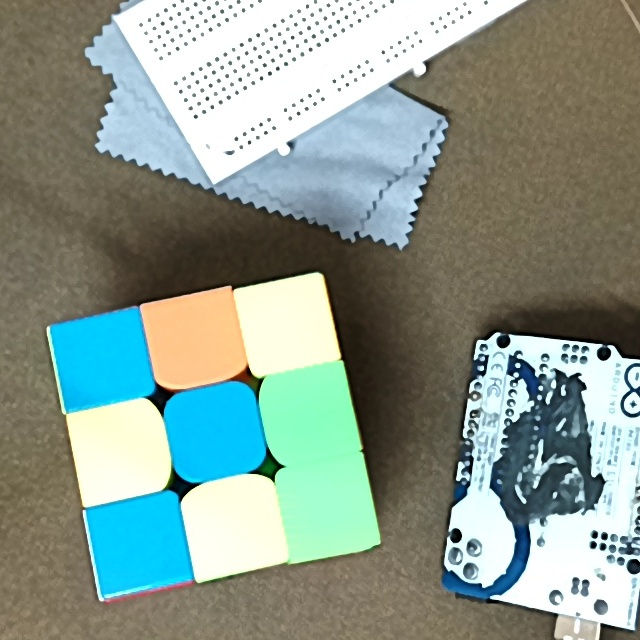tile: (84, 414, 157, 486), (179, 398, 252, 469), (105, 508, 179, 578), (61, 325, 136, 393), (157, 305, 230, 374), (291, 474, 361, 545), (275, 378, 343, 450), (199, 491, 268, 556), (257, 292, 321, 356)
